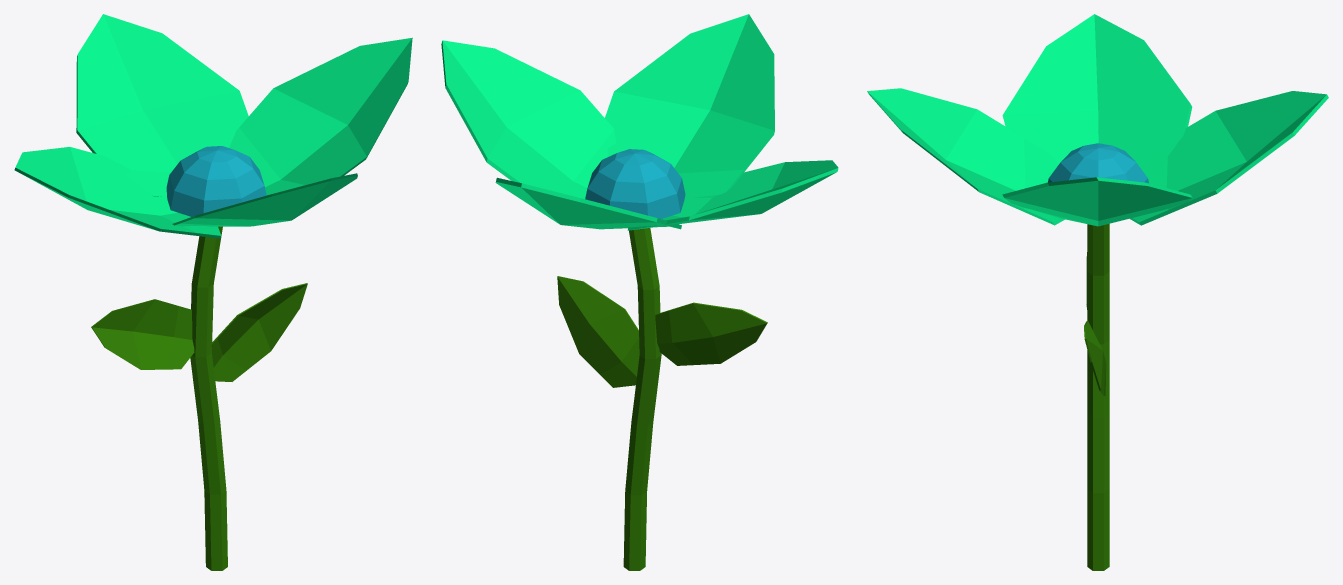
File: fleur2.fbx
The picture shows the model from 3 angles, left to right: view 1: azimuth 30°, elevation 25°; view 2: azimuth 150°, elevation 25°; view 3: azimuth 270°, elevation 25°; orthographic projection.
Visible parts, largest first — view 1: Plane.002, Cylinder, Sphere; view 2: Plane.002, Cylinder, Sphere; view 3: Plane.002, Cylinder, Sphere.
Boxes of the visible parts, x1,y1,x2,y2 form: Plane.002: [14, 14, 412, 238]; Cylinder: [91, 226, 307, 570]; Sphere: [166, 146, 266, 216]; Plane.002: [441, 14, 838, 230]; Cylinder: [557, 228, 767, 570]; Sphere: [585, 149, 685, 218]; Plane.002: [867, 14, 1328, 226]; Cylinder: [1084, 223, 1109, 570]; Sphere: [1048, 143, 1148, 183].
Bounding box in the file's own units: 431 × 499 × 431.
1 material, 1 textured.
